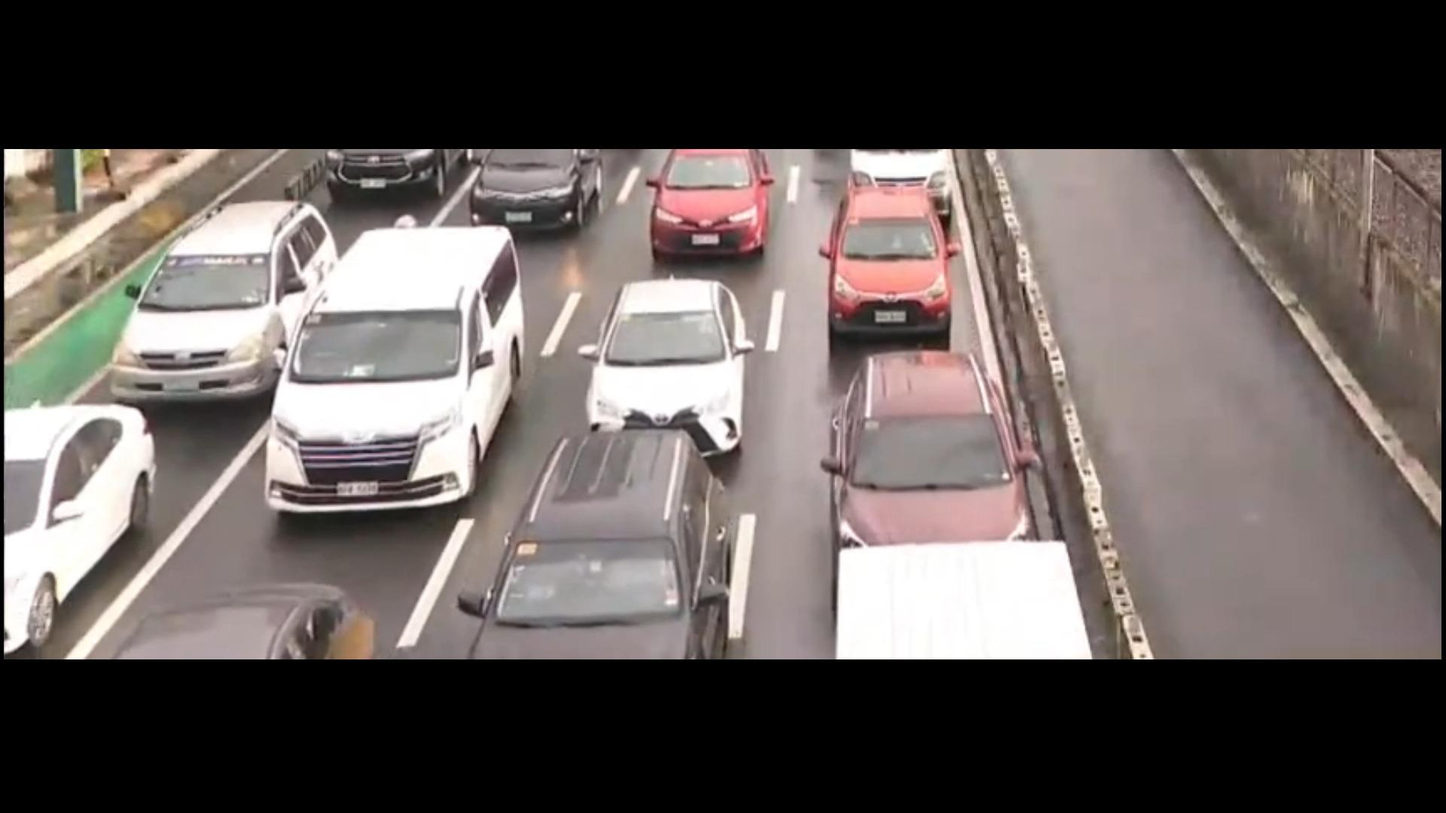SUV: (460, 433, 761, 654), (823, 343, 1057, 553), (109, 202, 347, 408)
Sedan: (0, 394, 183, 639), (554, 269, 772, 450), (102, 563, 407, 663), (805, 183, 964, 337), (625, 140, 787, 276)
Truck: (818, 540, 1112, 666)
Van: (234, 228, 545, 536)
